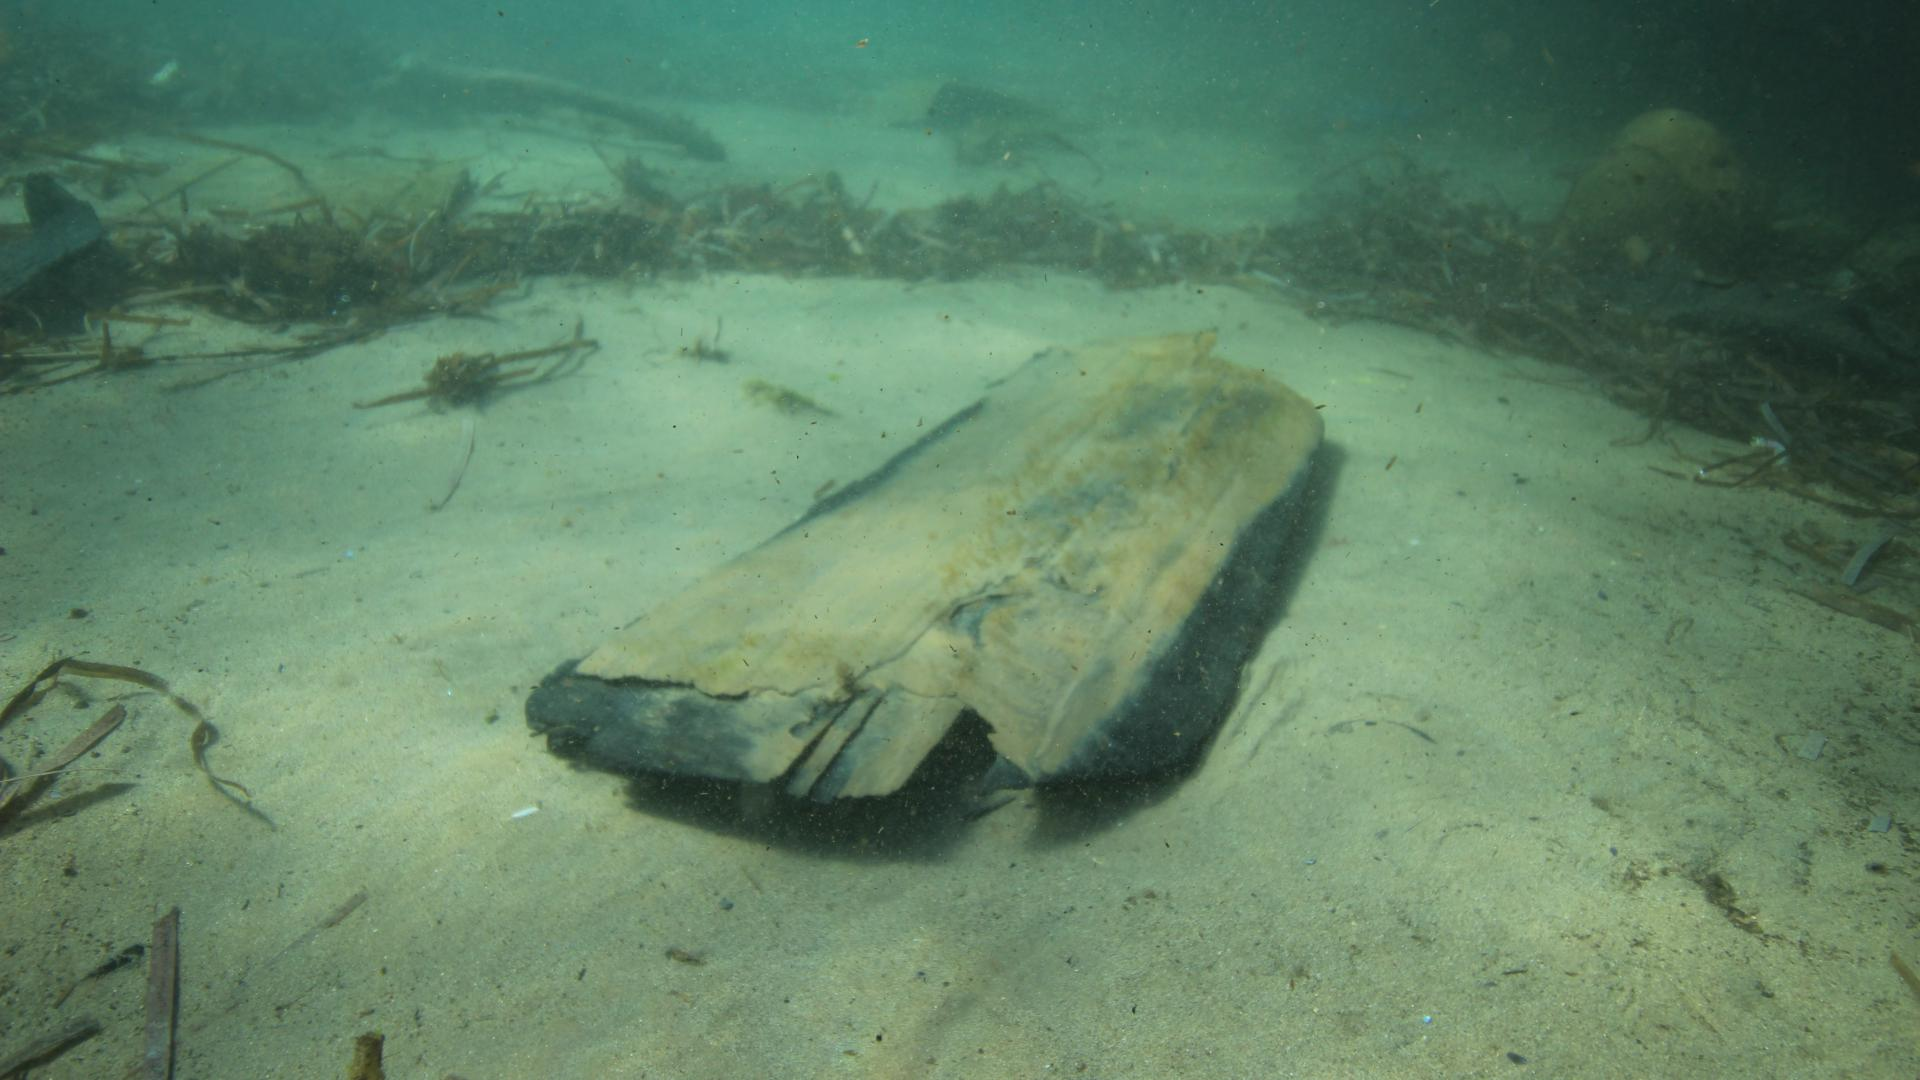wood: (520, 335, 1323, 800)
